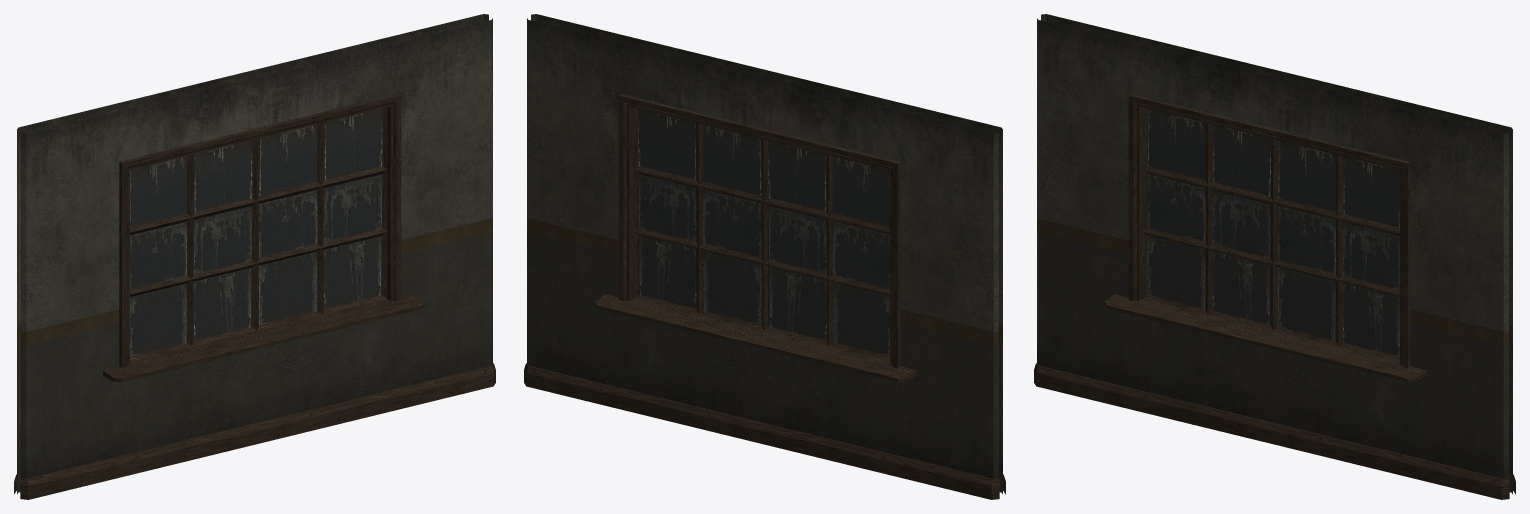
File: window_2_double.obj
3 views of the same model, side by side, from view 1: azimuth 30°, elevation 25°; view 2: azimuth 150°, elevation 25°; view 3: azimuth 330°, elevation 25° (orthographic).
Visible parts, largest first — view 1: window_2_double; view 2: window_2_double; view 3: window_2_double.
Boxes of the visible parts, left/top/right/bottom form: window_2_double: left=14, top=14, right=495, bottom=499; window_2_double: left=524, top=14, right=1005, bottom=499; window_2_double: left=1034, top=14, right=1515, bottom=499.
Bounding box in the file's own units: 4.09 × 3 × 0.52.
